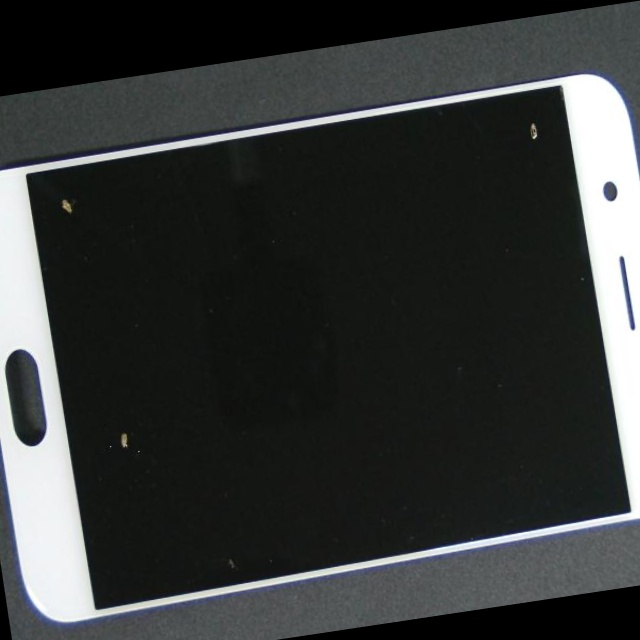stain: (208, 39, 640, 249), (21, 271, 199, 640), (0, 150, 111, 297)
